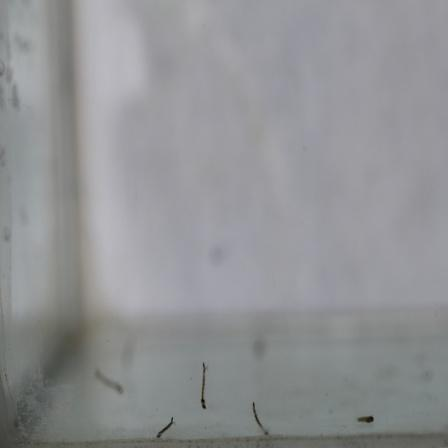Jentik-Nyamuk: (247, 398, 274, 438), (197, 358, 212, 413), (153, 415, 178, 440), (353, 412, 378, 429)
